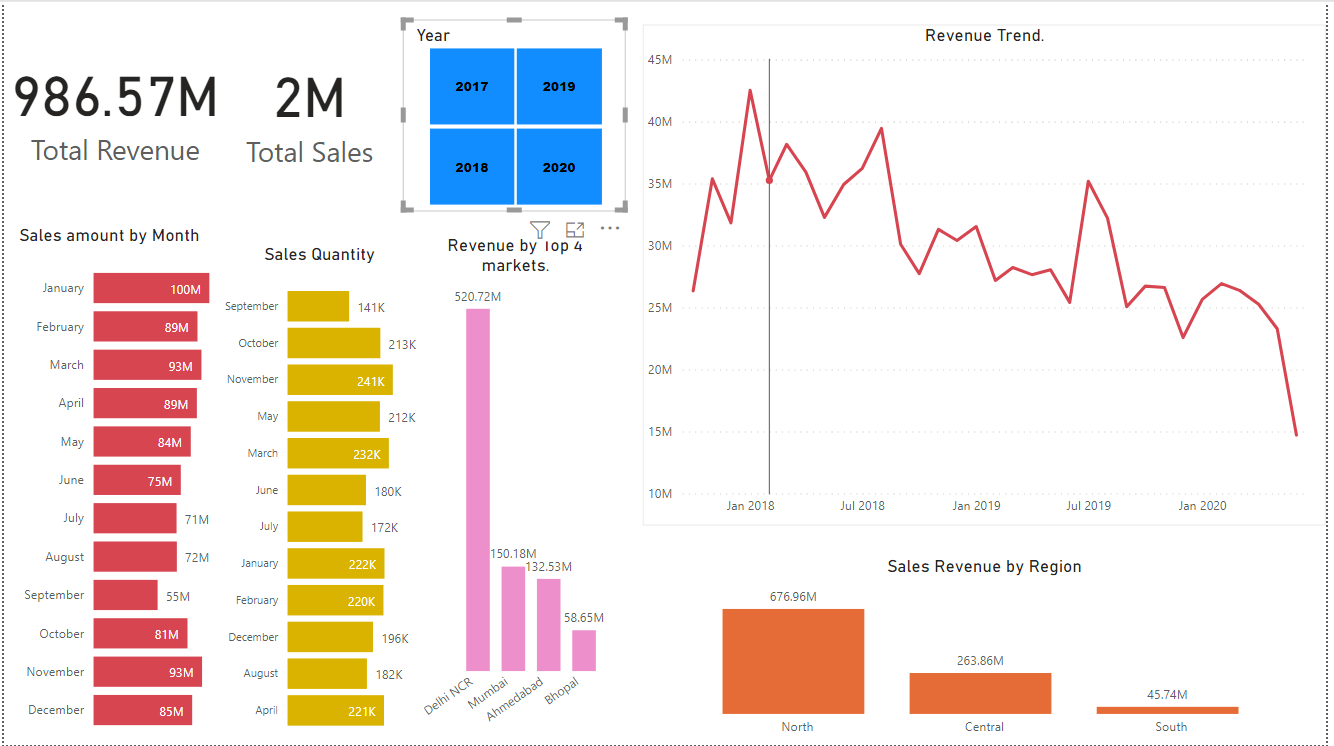

Layout of this report page (visuals, bound fields, positions):
{"tool":"powerbi","page":{"name":"Page 1","canvas":[1280,720],"ordinal":0},"visuals":[{"type":"textbox","box":[10,0,280,280],"z":0},{"type":"card","fields":{"Values":["Sales Measures.Revenue"]},"box":[0,0,215.4,203.3],"z":1000},{"type":"card","fields":{"Values":["Sales Measures.Total Sales"]},"box":[215.4,16.9,160.9,173],"z":2000},{"type":"barChart","title":"Sales amount by Month","fields":{"Category":["sales date.cy_date.Variation.Date Hierarchy.Month","sales date.cy_date.Variation.Date Hierarchy.Day"],"Y":["Sum(sales transactions.sales_amount)"]},"box":[9.7,215.4,194.8,504.6],"z":3000},{"type":"slicer","fields":{"Values":["sales date.cy_date.Variation.Date Hierarchy.Year"]},"box":[386,16.9,216.6,186.4],"z":4000},{"type":"columnChart","title":"Sales Revenue by Region","fields":{"Y":["Sum(sales transactions.sales_amount)"],"Category":["sales markets.zone"]},"box":[618.4,536.1,661.9,183.9],"z":5000},{"type":"columnChart","title":"Revenue by Top 4 markets.","fields":{"Category":["sales markets.markets_name"],"Y":["Sum(sales transactions.sales_amount)"]},"box":[396.9,225.1,196,494.9],"z":6000},{"type":"barChart","title":"Sales Quantity","fields":{"Category":["sales date.month_name"],"Y":["Sum(sales transactions.sales_qty)"]},"box":[204.5,233.5,202.1,486.5],"z":7000},{"type":"lineChart","title":"Revenue Trend.","fields":{"Y":["Sales Measures.Revenue"],"Category":["sales date.cy_date"]},"box":[618.4,21.8,661.9,485.2],"z":8000}]}

Visuals, with their boxes in screenshot pixels (x1, y1, x2, y2), scaled from the page's 1280x720 canvas onto the 1334x746 screenshot:
textbox: <box>10,0,302,290</box>
card - Sales Measures.Revenue: <box>0,0,224,211</box>
card - Sales Measures.Total Sales: <box>224,18,392,197</box>
"Sales amount by Month" barChart: <box>10,223,213,745</box>
slicer - sales date.cy_date.Variation.Date Hierarchy.Year: <box>402,18,628,211</box>
"Sales Revenue by Region" columnChart: <box>644,555,1333,745</box>
"Revenue by Top 4 markets." columnChart: <box>414,233,618,745</box>
"Sales Quantity" barChart: <box>213,242,424,745</box>
"Revenue Trend." lineChart: <box>644,23,1333,525</box>
